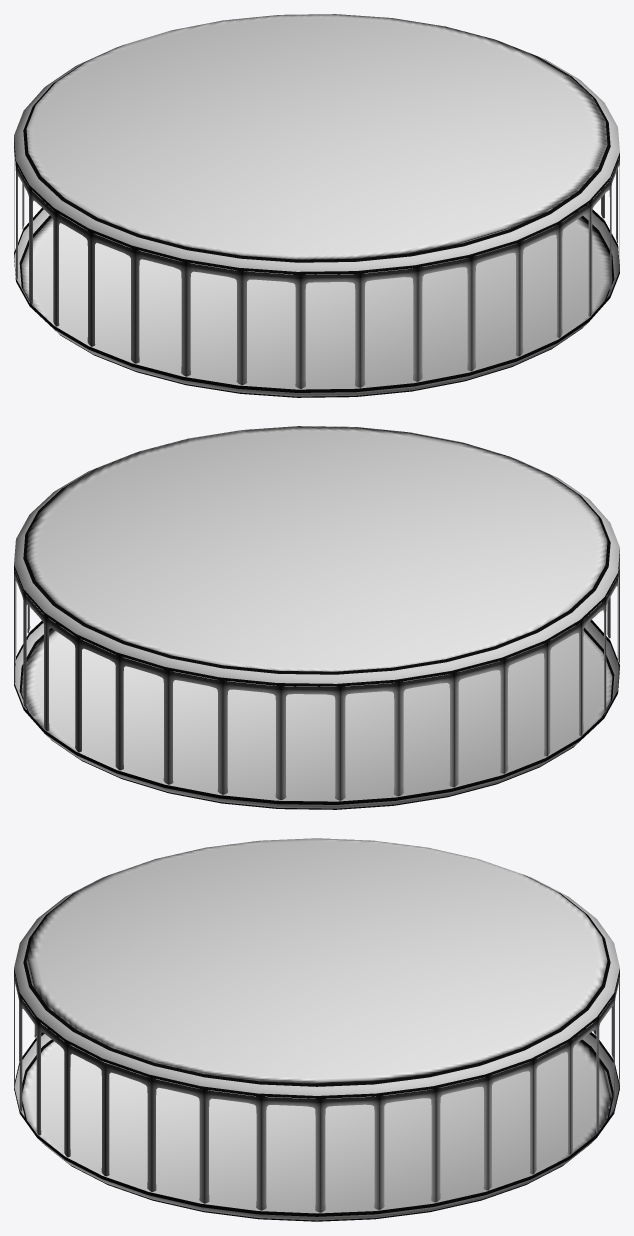
File: PlataformaL.fbx
3 renders of one model, top to bottom at view 1: azimuth 30°, elevation 25°; view 2: azimuth 150°, elevation 25°; view 3: azimuth 270°, elevation 25°, orthographic.
Parts seen in each view (by area): view 1: Circle; view 2: Circle; view 3: Circle.
Boxes of the visible parts, x1,y1,x2,y2 form: Circle: (14, 14, 619, 397); Circle: (14, 426, 619, 809); Circle: (14, 838, 619, 1221).
Bounding box in the file's own units: 209 × 51.58 × 209.
3 materials, 2 textured.
